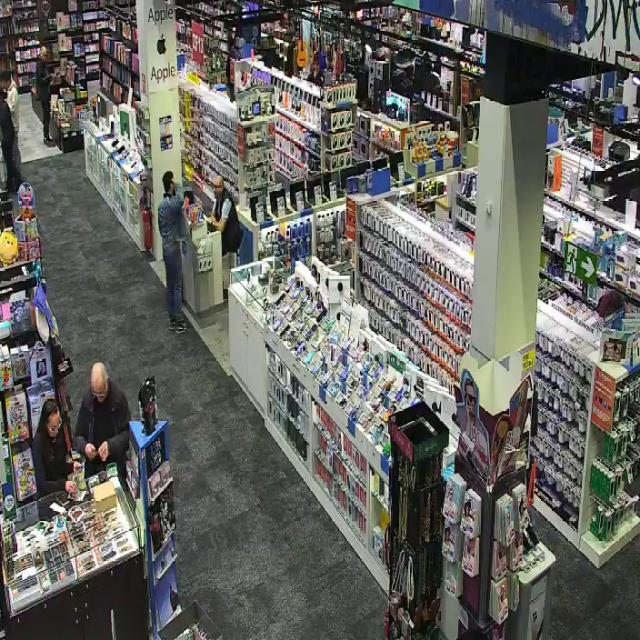hands: (85, 444, 97, 460), (99, 442, 109, 461), (66, 481, 77, 494), (74, 462, 81, 473), (171, 178, 178, 189), (208, 214, 214, 225)
person: (75, 363, 130, 477), (159, 172, 188, 333), (32, 399, 79, 496), (209, 176, 242, 255), (36, 47, 54, 145)
